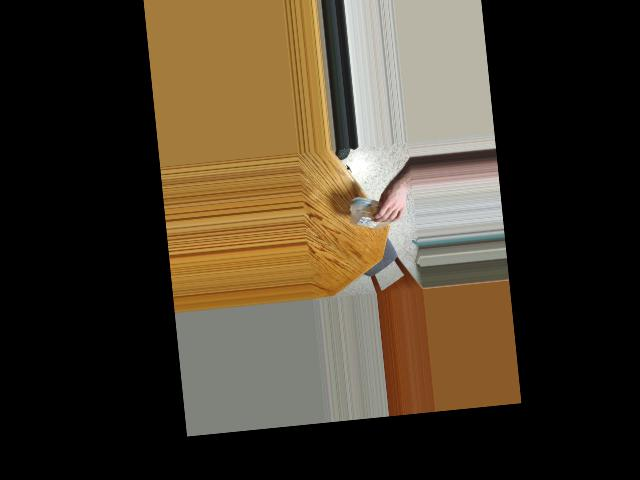cheese: (361, 192, 401, 228)
